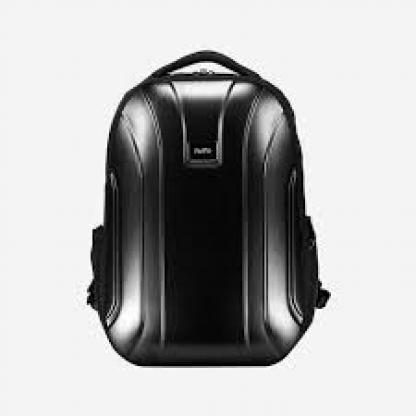morral: (78, 42, 368, 368)
